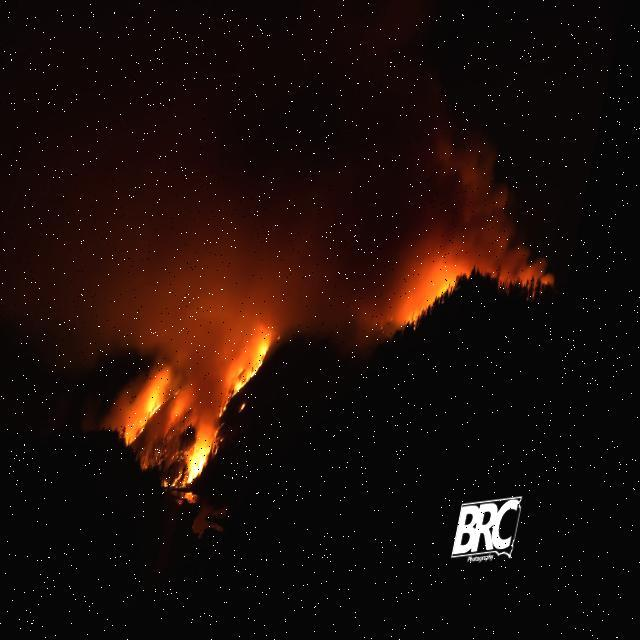Fire: (182, 430, 245, 496), (237, 356, 284, 424), (147, 404, 186, 453)
